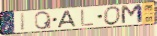A: (57, 9, 78, 29)
I: (20, 12, 27, 32)
L: (80, 9, 95, 27)
M: (120, 3, 145, 26)
O: (102, 6, 122, 27)
Q: (34, 11, 53, 31)
